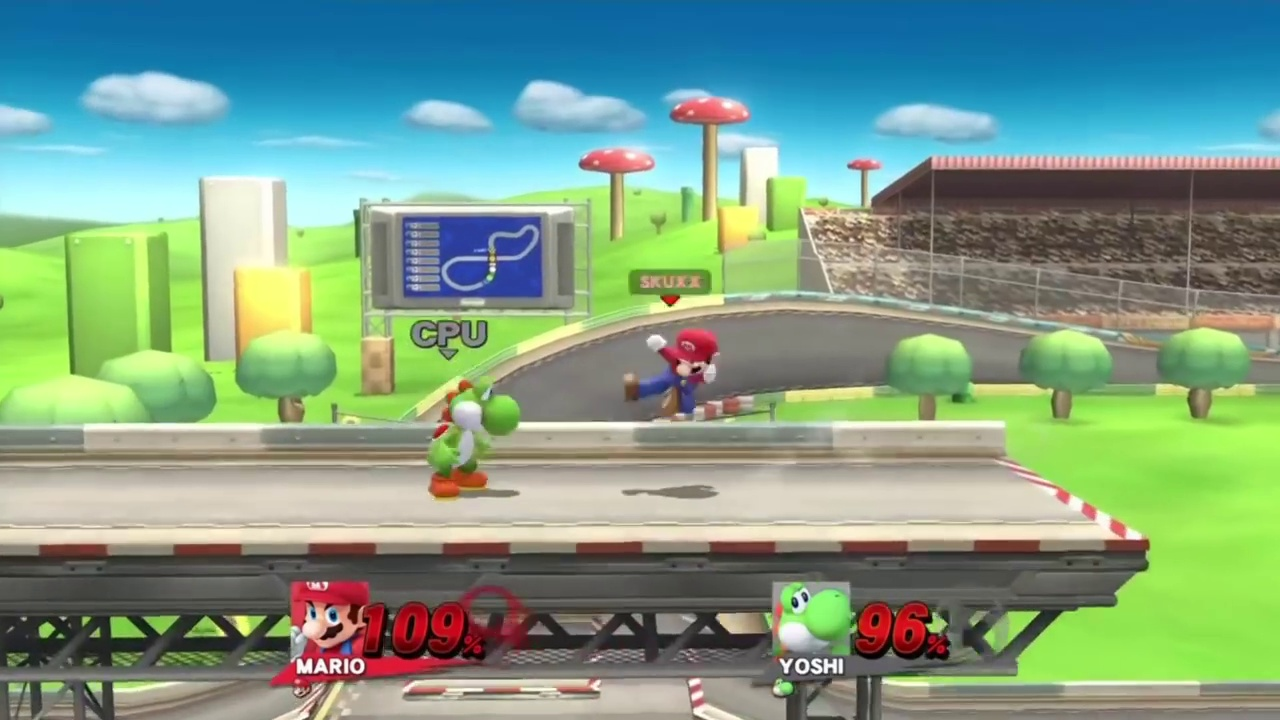Mario: (626, 329, 719, 412)
